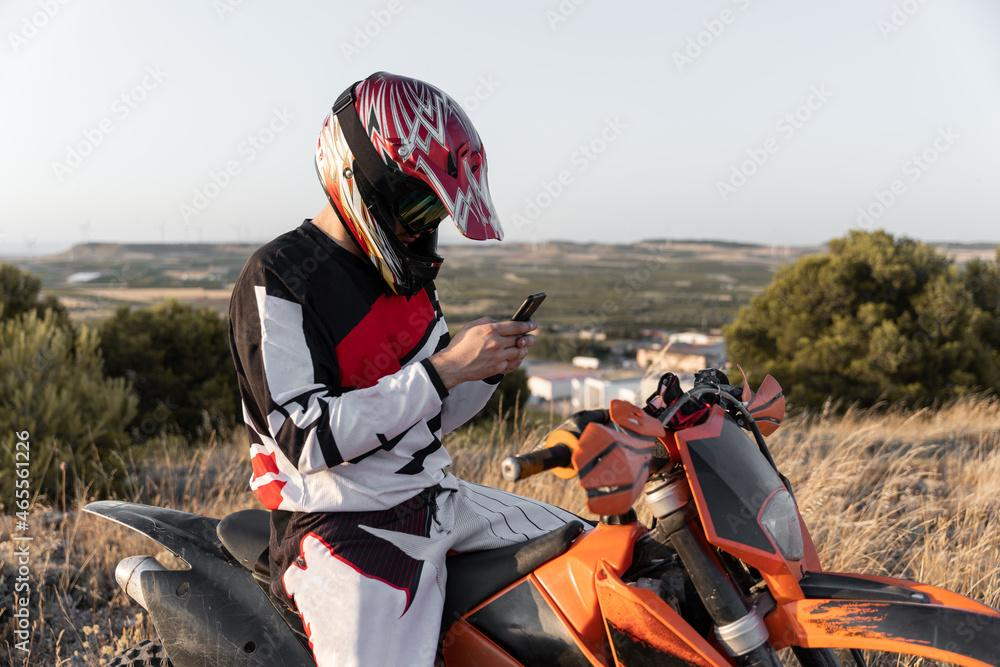helmet: (313, 69, 506, 303)
